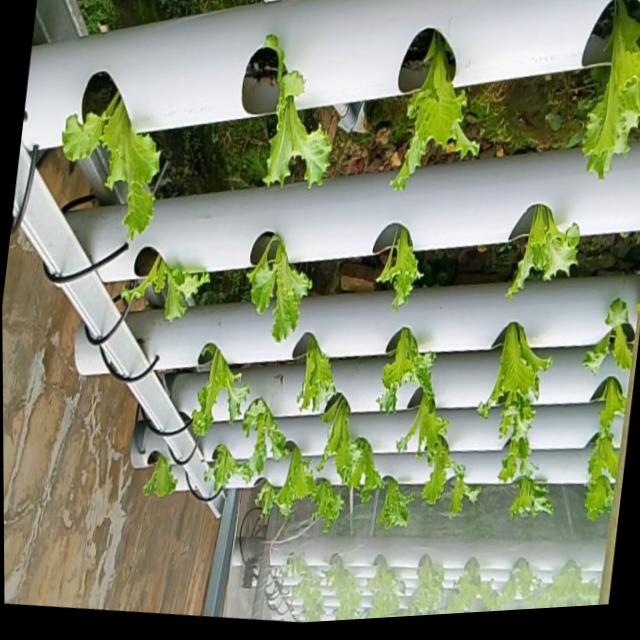Baby: (60, 95, 159, 243), (391, 34, 478, 193), (581, 0, 640, 180), (262, 38, 330, 189), (246, 239, 311, 346), (506, 206, 578, 301), (395, 389, 462, 484), (115, 261, 207, 328), (190, 347, 248, 440), (316, 394, 371, 489), (486, 323, 546, 406), (372, 453, 429, 536), (254, 446, 314, 519), (581, 299, 633, 375), (240, 399, 288, 481), (496, 377, 538, 465), (377, 230, 421, 313), (379, 329, 422, 413), (295, 336, 335, 414), (585, 432, 618, 512), (202, 446, 250, 499), (439, 462, 481, 518), (309, 479, 343, 534), (509, 476, 552, 518), (140, 461, 176, 502)
